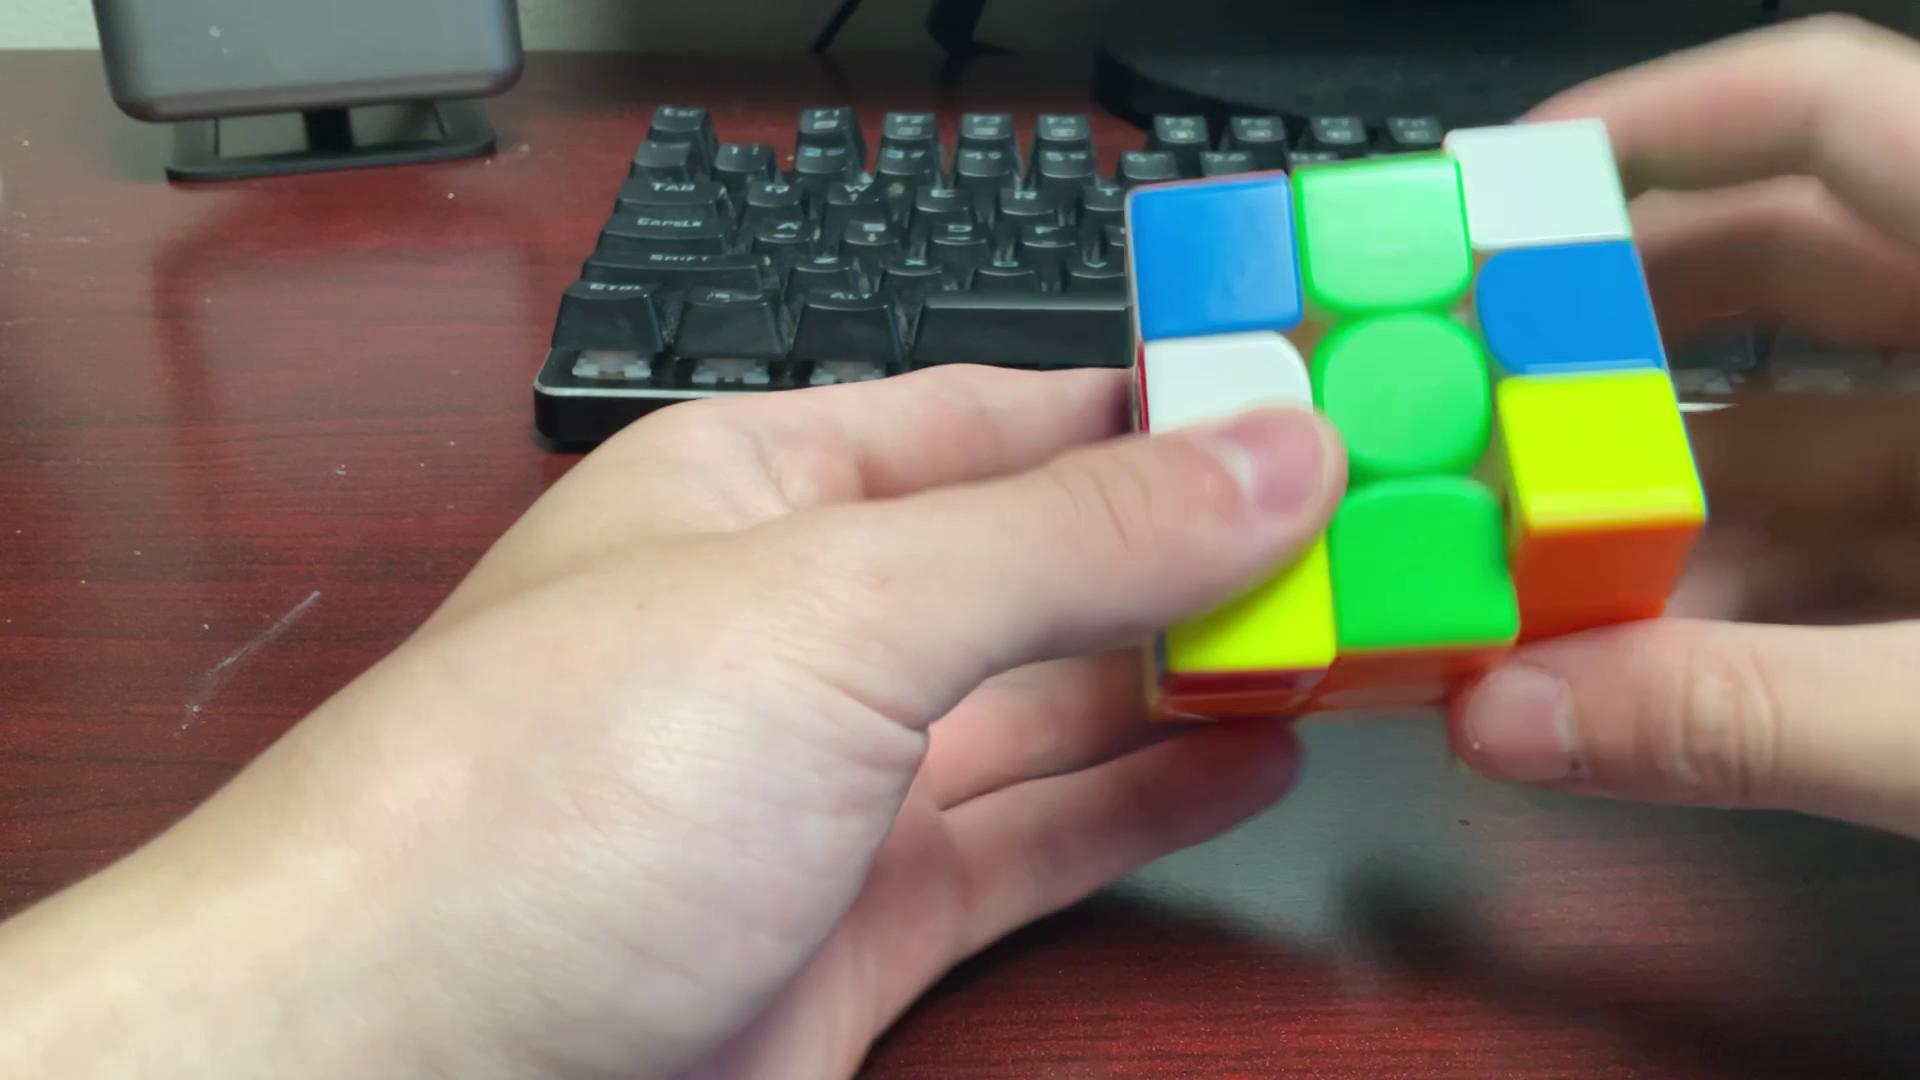Rubiks-Cube: (1118, 108, 1720, 732)
